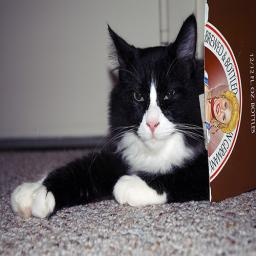catnose: (146, 119, 160, 135)
